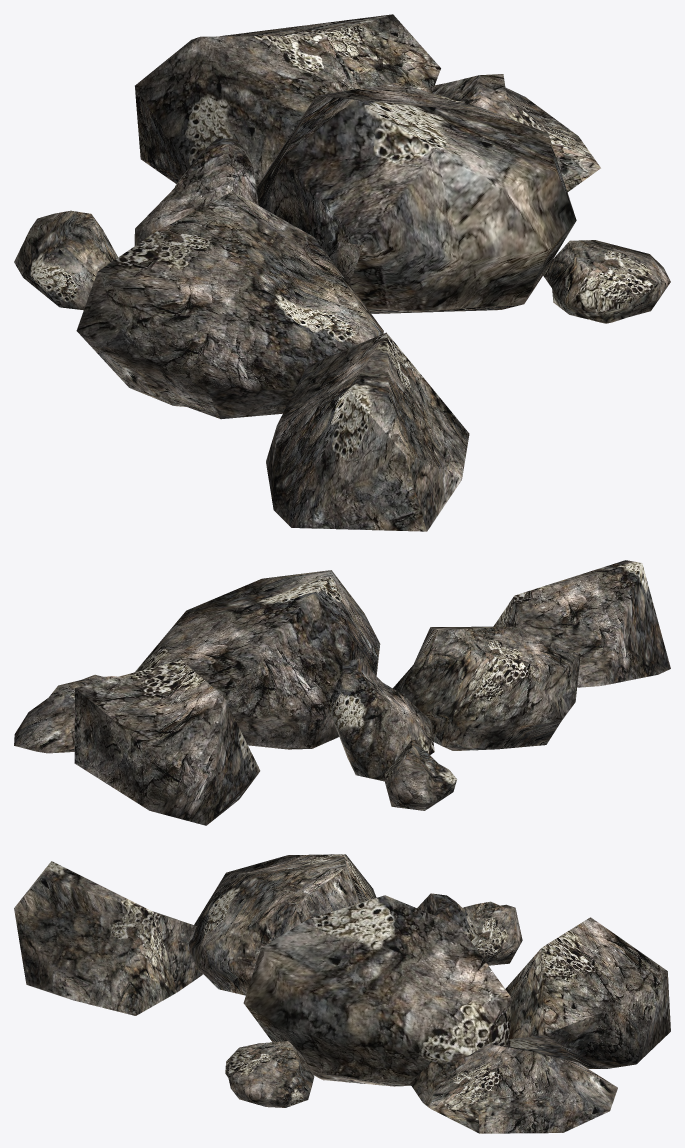
File: pir_m_prp_dvj_rockGroupBare_e.fbx
The picture shows the model from 3 angles, top to bottom: view 1: azimuth 30°, elevation 25°; view 2: azimuth 150°, elevation 25°; view 3: azimuth 270°, elevation 25°; orthographic projection. The views are drawn at different scales.
Parts seen in each view (by area): view 1: rock_2, rock_3, rock_0, rock_7, rock_6, rock_5, rock_1, rock_4; view 2: rock_2, rock_7, rock_3, rock_0, rock_1, rock_5, rock_4; view 3: rock_2, rock_0, rock_7, rock_3, rock_4, rock_6, rock_5, rock_1.
Part boxes in pixels (x1=…): rock_2: x1=256, y1=83, x2=576, y2=313; rock_3: x1=76, y1=191, x2=383, y2=419; rock_0: x1=266, y1=332, x2=469, y2=531; rock_7: x1=135, y1=14, x2=440, y2=186; rock_6: x1=542, y1=240, x2=670, y2=323; rock_5: x1=14, y1=210, x2=117, y2=310; rock_1: x1=134, y1=138, x2=258, y2=245; rock_4: x1=432, y1=74, x2=600, y2=192; rock_2: x1=135, y1=570, x2=380, y2=749; rock_7: x1=74, y1=660, x2=260, y2=825; rock_3: x1=393, y1=626, x2=580, y2=750; rock_0: x1=493, y1=560, x2=670, y2=687; rock_1: x1=327, y1=658, x2=434, y2=781; rock_5: x1=383, y1=740, x2=456, y2=810; rock_4: x1=14, y1=674, x2=117, y2=753; rock_2: x1=243, y1=895, x2=510, y2=1086; rock_0: x1=14, y1=861, x2=203, y2=1015; rock_7: x1=505, y1=917, x2=670, y2=1068; rock_3: x1=188, y1=854, x2=376, y2=995; rock_4: x1=410, y1=1044, x2=617, y2=1133; rock_6: x1=225, y1=1041, x2=314, y2=1107; rock_5: x1=463, y1=901, x2=522, y2=965; rock_1: x1=417, y1=893, x2=479, y2=949.
Size of the model in its own units: 3626 by 1191 by 4623.
Materials: 1 (1 with a texture image).
